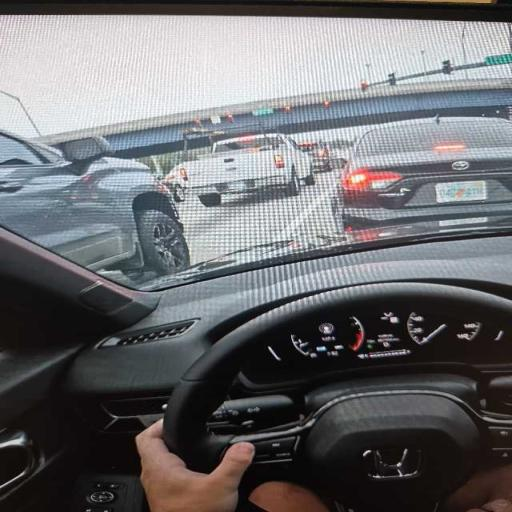car: (0, 0, 511, 511), (0, 133, 189, 274), (332, 116, 511, 231), (178, 134, 314, 206), (162, 166, 187, 202), (299, 142, 330, 171)
lane: (180, 172, 338, 263)
person: (136, 421, 329, 511)
